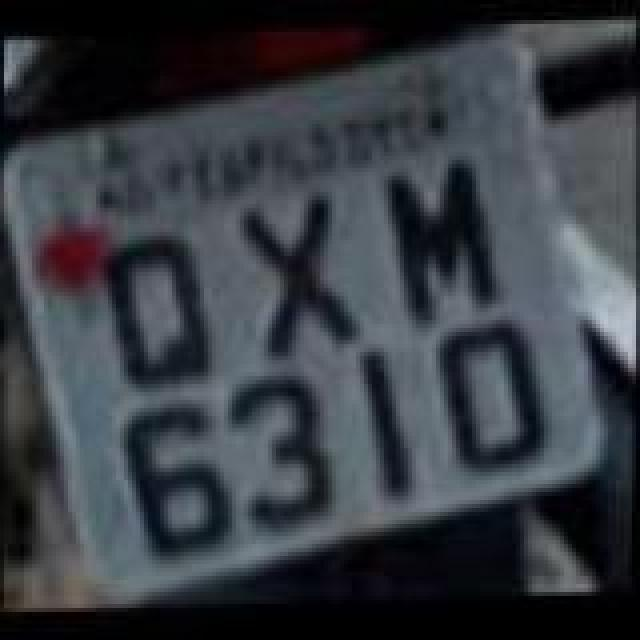1: (346, 350, 430, 502)
3: (224, 368, 336, 528)
6: (122, 392, 238, 560)
M: (374, 152, 506, 336)
O: (438, 316, 554, 480)
Q: (100, 226, 216, 390)
X: (224, 182, 364, 370)
